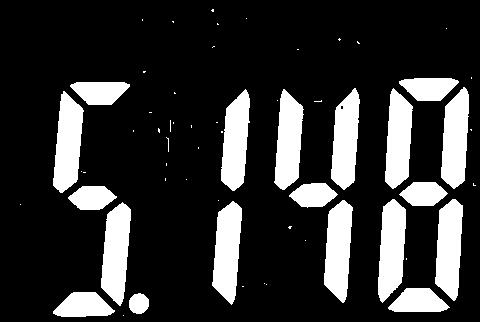1: (211, 88, 252, 305)
4: (273, 86, 363, 304)
5: (53, 79, 133, 318)
8: (374, 76, 470, 313)
dot: (129, 290, 149, 317)
